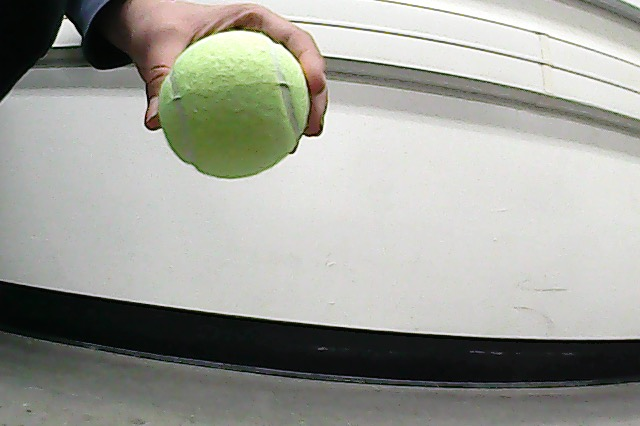ball: (156, 30, 315, 184)
